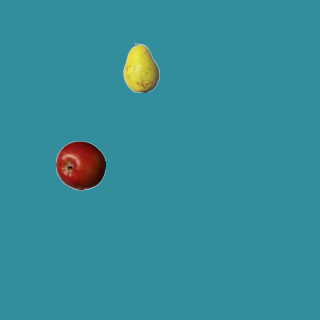Apple Braeburn: (55, 140, 105, 190)
Pear Monster: (116, 42, 166, 92)
